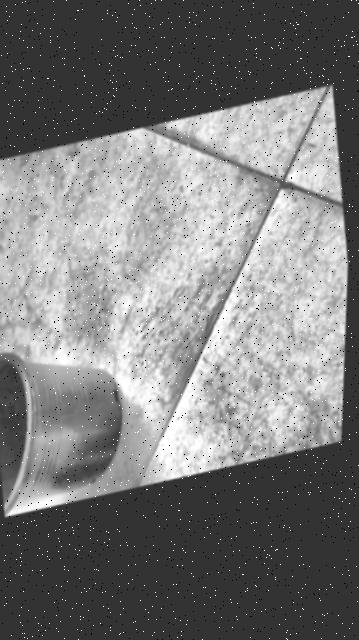pot: (0, 326, 131, 519)
